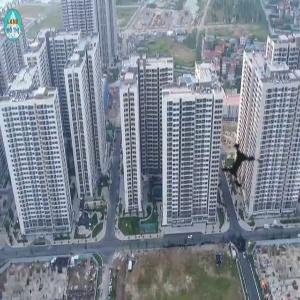drone: (193, 120, 289, 216)
